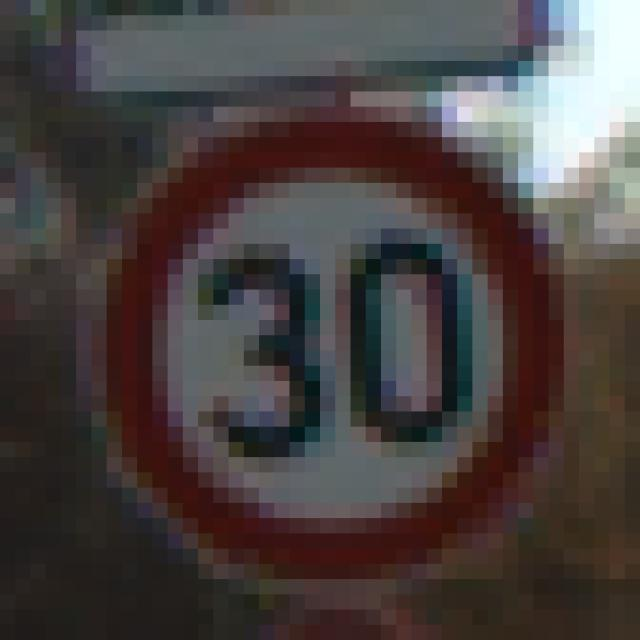Speed Limit -30-: (84, 84, 541, 541)
